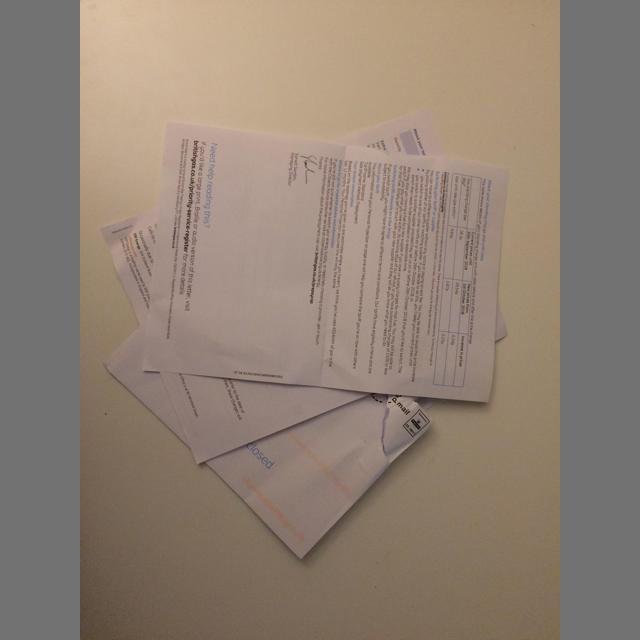litter: (100, 107, 508, 465), (143, 121, 510, 402), (103, 325, 435, 559)
